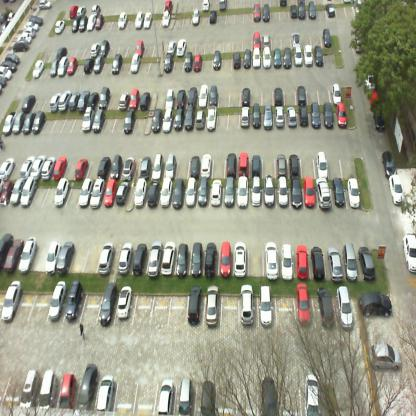car: (369, 341, 402, 374), (77, 363, 99, 409), (61, 289, 86, 326), (0, 280, 22, 322), (359, 291, 392, 318), (18, 367, 39, 408), (18, 234, 39, 274), (46, 290, 69, 326), (336, 285, 354, 330), (96, 288, 118, 324), (95, 374, 115, 413), (303, 373, 321, 415), (317, 286, 335, 328), (3, 237, 24, 273), (37, 369, 56, 408), (354, 240, 374, 277), (114, 289, 136, 322), (157, 376, 175, 416), (145, 240, 165, 275), (295, 283, 311, 326), (324, 242, 342, 280), (202, 293, 221, 329), (58, 372, 76, 408), (41, 239, 60, 273), (239, 283, 254, 326), (178, 376, 194, 416), (76, 176, 94, 210), (144, 177, 162, 211), (293, 243, 311, 277), (53, 241, 72, 273), (261, 377, 277, 415), (259, 284, 273, 327), (187, 292, 204, 327), (340, 241, 356, 278), (88, 174, 105, 208), (278, 244, 295, 278), (310, 242, 326, 278), (200, 379, 216, 415), (160, 241, 177, 274), (174, 243, 191, 276), (402, 232, 416, 272), (203, 241, 218, 278), (170, 176, 186, 210), (188, 242, 204, 276), (263, 243, 279, 277), (344, 176, 362, 206), (234, 241, 249, 277), (113, 177, 129, 210), (156, 178, 172, 211), (132, 240, 148, 273), (217, 242, 233, 275), (388, 174, 404, 207), (100, 178, 116, 210), (96, 244, 113, 274), (20, 176, 37, 206), (0, 231, 14, 267), (316, 177, 332, 208), (54, 177, 70, 208), (379, 149, 396, 178), (314, 148, 330, 178), (118, 242, 134, 272), (133, 177, 146, 212), (73, 154, 91, 179), (0, 176, 15, 206), (330, 179, 345, 208), (197, 179, 211, 210), (288, 180, 304, 207), (29, 154, 46, 179), (122, 106, 137, 134), (288, 147, 302, 177), (235, 179, 249, 209), (262, 178, 276, 208), (276, 179, 290, 209), (90, 106, 106, 132), (96, 154, 112, 180), (51, 154, 67, 180), (0, 155, 16, 181), (10, 178, 26, 204), (31, 109, 47, 135), (209, 180, 223, 209), (20, 153, 35, 180), (276, 148, 289, 179), (304, 178, 317, 209), (122, 155, 138, 180), (41, 157, 57, 182), (332, 101, 347, 127), (186, 152, 201, 178), (109, 155, 125, 179), (248, 150, 262, 177), (184, 179, 196, 210), (149, 154, 163, 180), (371, 106, 385, 132), (138, 155, 153, 179), (249, 179, 261, 209), (150, 106, 163, 133), (82, 106, 95, 133), (164, 152, 178, 177), (199, 152, 213, 177), (21, 110, 35, 135), (224, 179, 236, 208), (224, 150, 236, 178), (57, 89, 72, 111), (194, 107, 206, 133), (162, 107, 174, 132), (238, 105, 250, 130), (237, 152, 249, 177), (12, 110, 24, 135), (76, 89, 90, 110), (57, 54, 69, 78), (311, 102, 322, 128), (321, 104, 334, 126), (262, 105, 274, 128), (274, 105, 286, 128), (298, 105, 310, 128), (164, 88, 176, 111), (111, 52, 124, 73), (184, 106, 194, 133), (22, 92, 36, 111), (48, 93, 62, 112), (2, 115, 14, 137), (98, 86, 110, 108), (198, 84, 209, 108), (211, 48, 223, 70), (174, 108, 184, 134), (118, 90, 131, 110), (98, 38, 111, 58), (31, 59, 44, 79), (86, 89, 100, 107), (128, 87, 140, 108), (186, 86, 198, 107), (252, 105, 262, 130), (66, 55, 79, 74), (56, 43, 69, 62), (205, 108, 216, 130), (140, 89, 151, 111), (176, 36, 187, 58), (367, 90, 379, 110), (304, 43, 314, 67), (286, 105, 297, 126), (262, 46, 272, 69), (93, 54, 105, 73), (322, 26, 332, 48), (163, 52, 174, 72), (130, 52, 141, 72), (49, 58, 60, 78), (12, 40, 30, 52), (232, 49, 242, 70), (69, 91, 80, 110), (209, 84, 218, 107), (314, 44, 323, 67), (176, 87, 186, 107), (273, 86, 283, 106), (192, 52, 202, 72), (184, 48, 192, 73), (297, 84, 306, 106), (283, 46, 292, 68), (252, 48, 261, 70), (0, 64, 11, 82), (242, 86, 251, 107), (332, 82, 341, 103), (83, 57, 94, 74), (6, 52, 20, 65), (252, 31, 262, 49), (89, 43, 101, 58), (117, 12, 127, 30), (2, 60, 17, 72), (17, 32, 32, 44), (142, 11, 152, 28), (53, 19, 65, 33), (294, 46, 302, 66), (243, 48, 251, 68), (136, 39, 146, 55), (263, 2, 271, 22), (273, 47, 280, 69), (78, 16, 89, 30), (86, 15, 97, 29), (325, 3, 336, 17), (134, 11, 143, 28), (191, 7, 200, 24), (297, 3, 306, 20), (308, 2, 317, 19), (70, 16, 80, 31), (292, 31, 300, 49), (253, 2, 261, 20), (68, 4, 78, 18), (94, 13, 104, 27), (29, 14, 43, 24), (39, 0, 53, 10), (290, 3, 298, 20), (23, 22, 40, 30), (167, 41, 177, 53), (76, 5, 86, 17), (162, 11, 170, 26), (209, 10, 217, 25), (24, 27, 36, 37), (164, 0, 173, 12), (262, 33, 270, 46), (219, 0, 228, 11), (0, 76, 8, 88), (92, 3, 100, 14), (202, 0, 210, 11)
